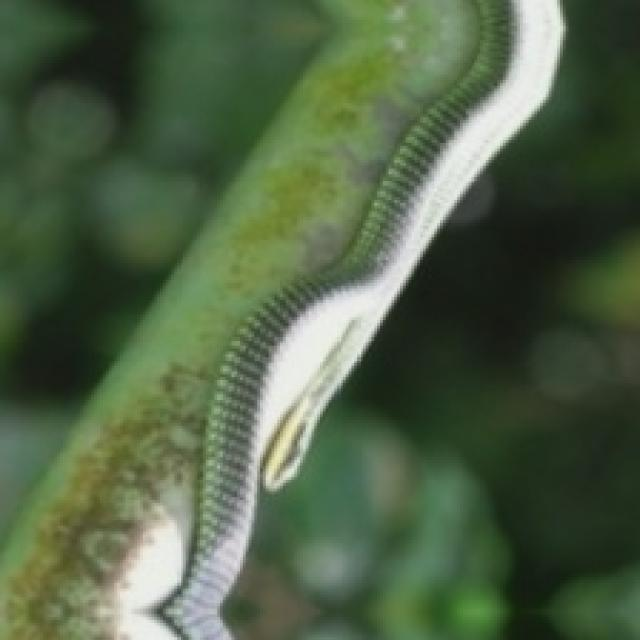paradise tree snake: (0, 0, 560, 637), (140, 0, 560, 637)
